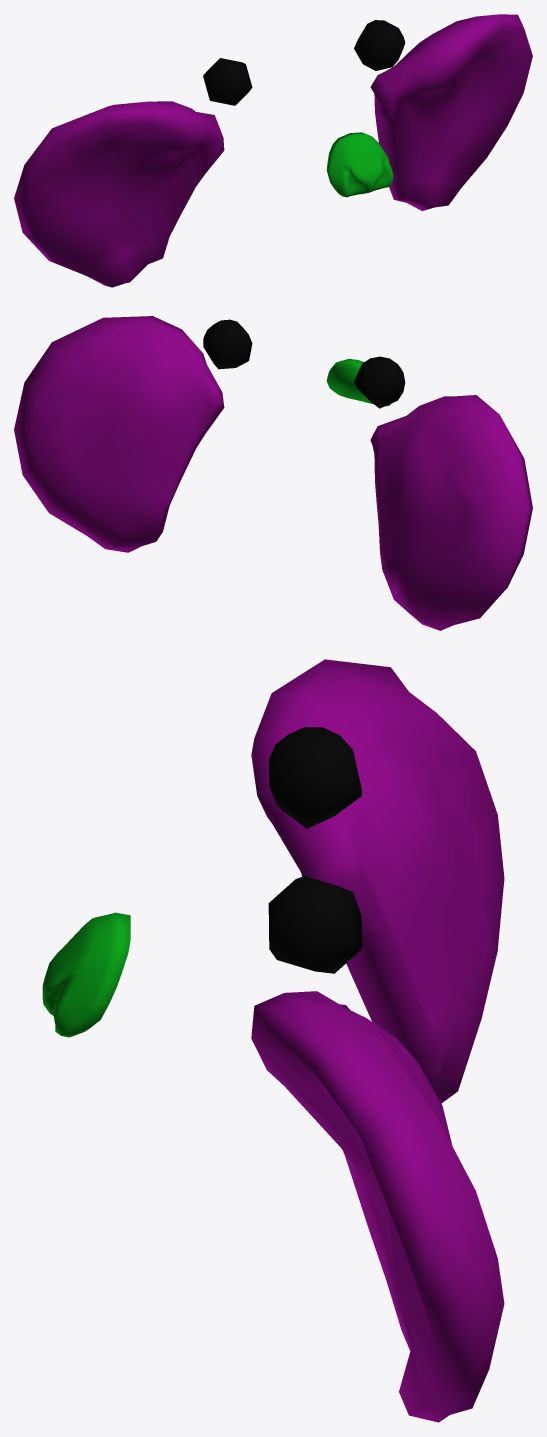
Rendered from accesorios mono.fbx.
3 views of the same model, one above another, from view 1: azimuth 30°, elevation 25°; view 2: azimuth 150°, elevation 25°; view 3: azimuth 270°, elevation 25° (orthographic). The views are drawn at different scales.
Visible parts, largest first — view 1: monkey_addons; view 2: monkey_addons; view 3: monkey_addons.
Boxes of the visible parts, left/top/right/bottom form: monkey_addons: left=14, top=14, right=532, bottom=287; monkey_addons: left=14, top=316, right=532, bottom=630; monkey_addons: left=42, top=659, right=504, bottom=1422.
Bounding box in the file's own units: 367 × 157 × 145.
